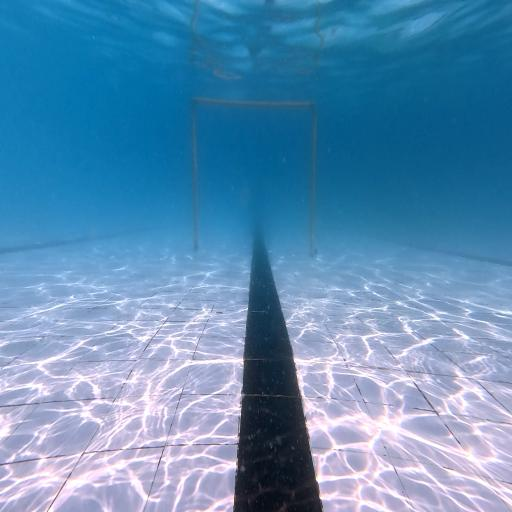gate: (191, 98, 317, 256)
